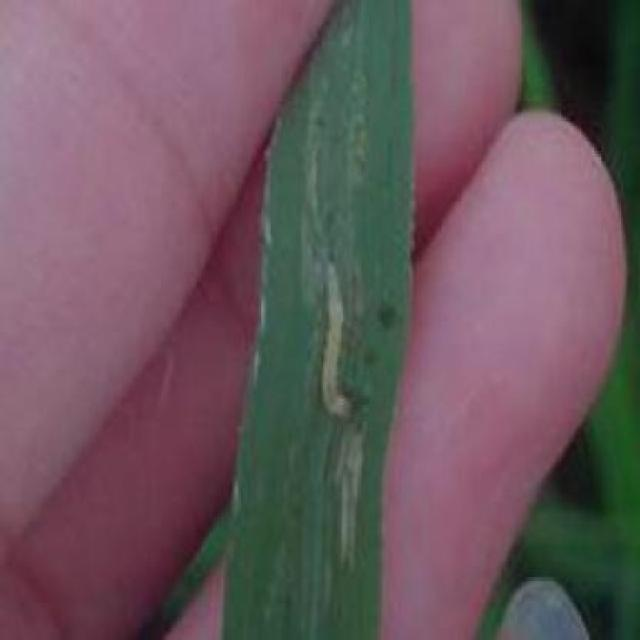leaf-folder: (310, 245, 368, 446)
